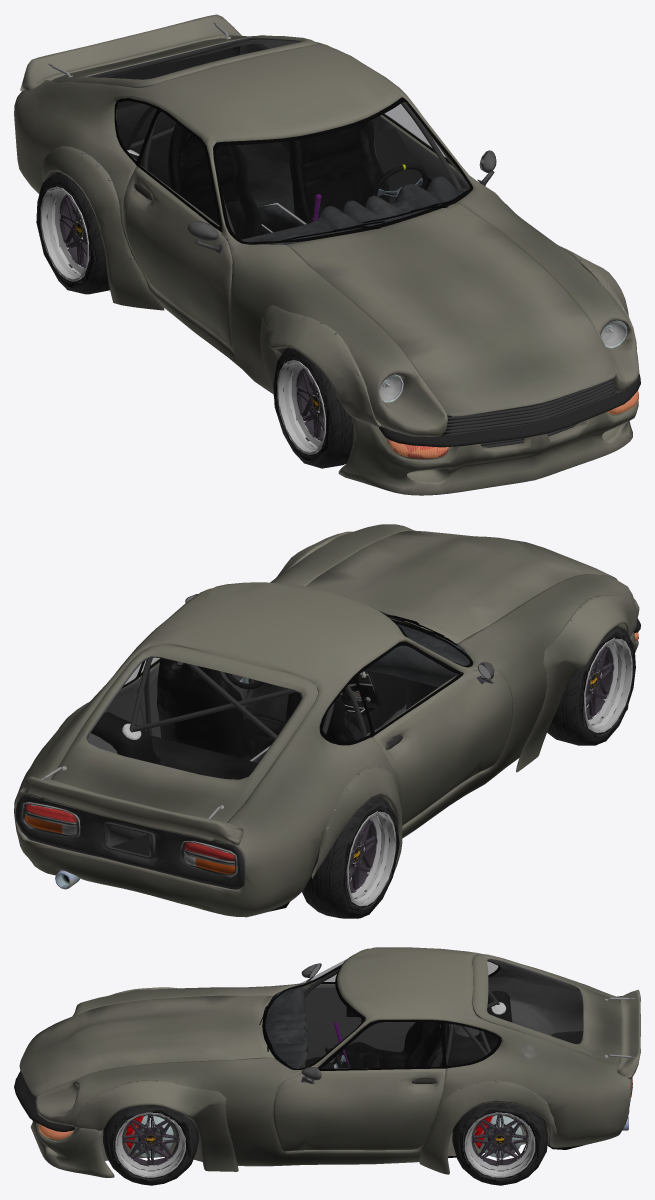
The model's file is nissan-240z-rocket-bunny-2e8630.glb.
3 renders of one model, top to bottom at view 1: azimuth 30°, elevation 25°; view 2: azimuth 150°, elevation 25°; view 3: azimuth 270°, elevation 25°, orthographic. The views are drawn at different scales.
Parts seen in each view (by area): view 1: body, wheel-front-right, wheel-back-right; view 2: body, wheel-back-right, wheel-front-right; view 3: body, wheel-back-left, wheel-front-left.
Boxes of the visible parts, bbox=[...] form: body: bbox=[14, 14, 640, 495]; wheel-front-right: bbox=[273, 347, 353, 468]; wheel-back-right: bbox=[36, 172, 109, 294]; body: bbox=[14, 524, 640, 917]; wheel-back-right: bbox=[302, 796, 399, 918]; wheel-front-right: bbox=[547, 625, 635, 745]; body: bbox=[14, 947, 640, 1177]; wheel-back-left: bbox=[452, 1102, 548, 1185]; wheel-front-left: bbox=[103, 1105, 198, 1185].
Size of the model in its own units: 1.81 by 1.2 by 4.19.
Materials: 43 (29 with a texture image).
